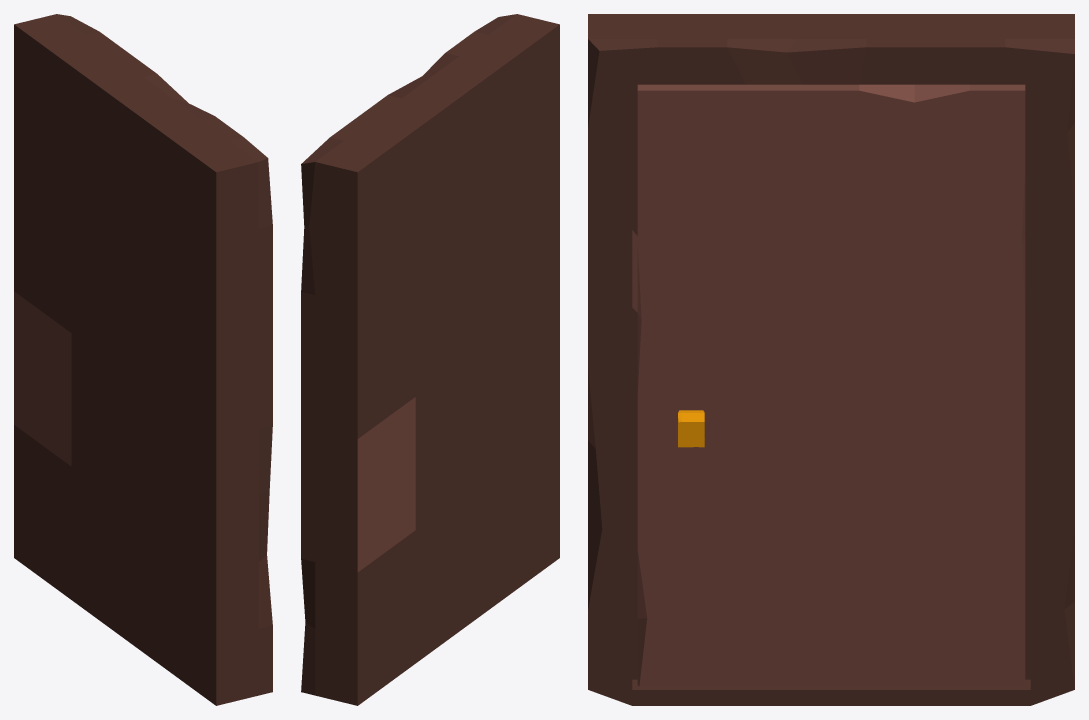
Rendered from GSDoorInside.fbx.
3 views of the same model, side by side, from view 1: azimuth 30°, elevation 25°; view 2: azimuth 150°, elevation 25°; view 3: azimuth 270°, elevation 25° (orthographic). The views are drawn at different scales.
Visible parts, largest first — view 1: Frame, Door; view 2: Frame, Door; view 3: Door, Frame, Nob.
Part boxes in pixels (x1,y1,x2,y2): Frame: (14,14,272,705); Door: (14,291,71,466); Frame: (301,14,559,705); Door: (357,397,415,572); Door: (632,84,1025,686); Frame: (588,14,1074,705); Nob: (678,410,704,447).
Size of the model in its own units: 32.13 by 228 by 153.
1 material, 1 textured.
